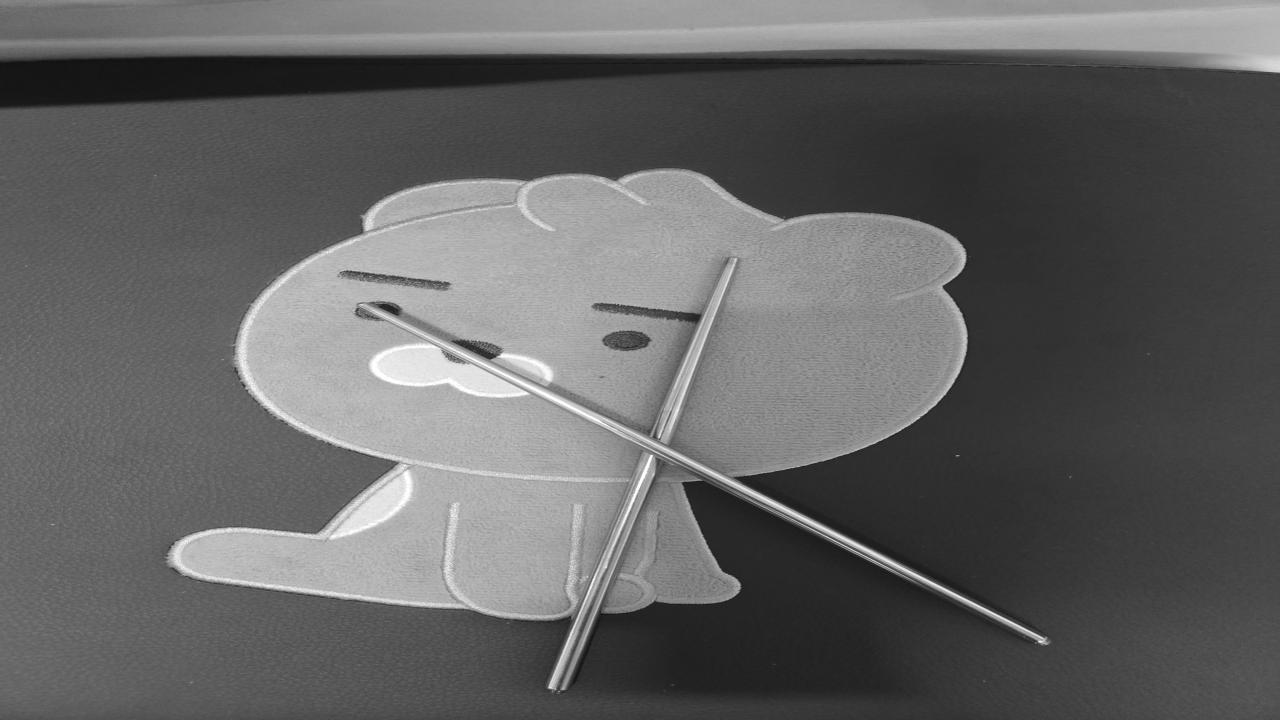chopstick: (344, 252, 1062, 692)
